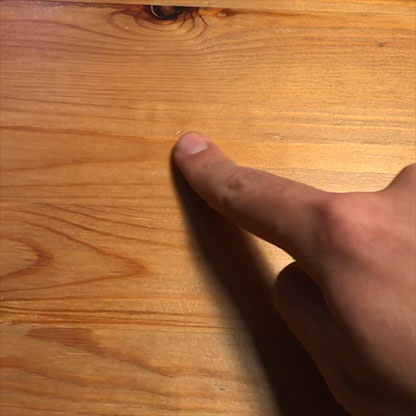fingertip: (170, 123, 222, 171)
